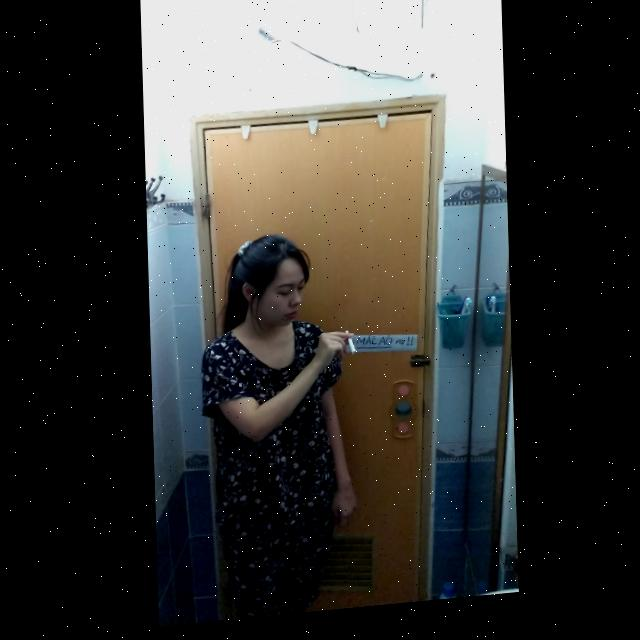cigarette: (342, 337, 355, 362)
